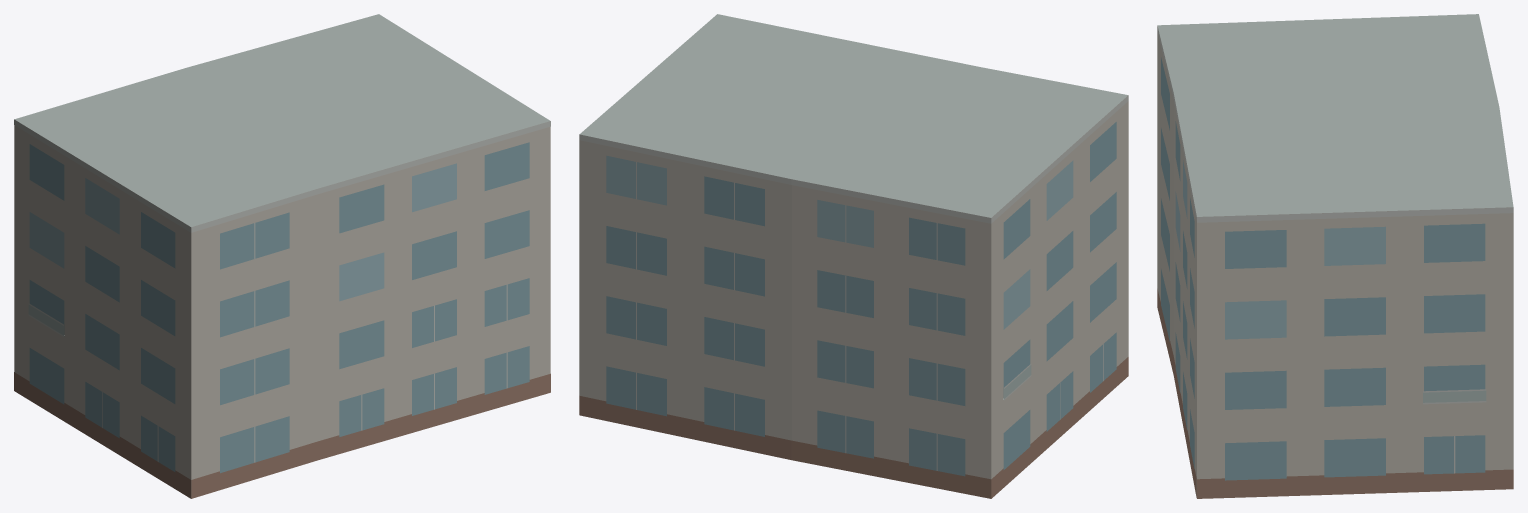
Rendered from survey-upis-32975535.glb.
The picture shows the model from 3 angles, left to right: view 1: azimuth 30°, elevation 25°; view 2: azimuth 150°, elevation 25°; view 3: azimuth 270°, elevation 25°; orthographic projection. The views are drawn at different scales.
Parts seen in each view (by area): view 1: survey-upis-32975535.tmp; view 2: survey-upis-32975535.tmp; view 3: survey-upis-32975535.tmp.
Part boxes in pixels (x1,y1,x2,y2): survey-upis-32975535.tmp: (14, 14, 550, 498); survey-upis-32975535.tmp: (579, 14, 1128, 498); survey-upis-32975535.tmp: (1157, 14, 1513, 498).
Size of the model in its own units: 18.23 by 11.8 by 13.52.
